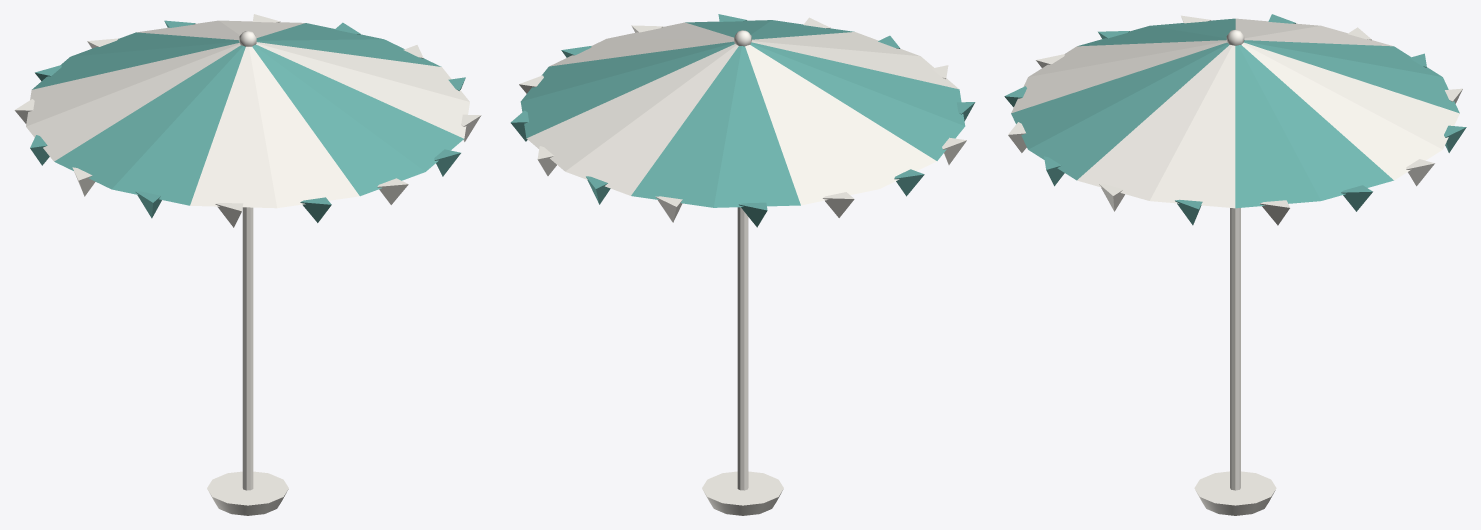
The model's file is b_parasol_teal.gltf.
3 views of the same model, side by side, from view 1: azimuth 30°, elevation 25°; view 2: azimuth 150°, elevation 25°; view 3: azimuth 270°, elevation 25° (orthographic).
Visible parts, largest first — view 1: b_parasol_teal; view 2: b_parasol_teal; view 3: b_parasol_teal.
Part boxes in pixels (x1,y1,x2,y2): b_parasol_teal: [14, 14, 481, 515]; b_parasol_teal: [510, 14, 975, 515]; b_parasol_teal: [1004, 14, 1466, 515].
Bounding box in the file's own units: 2.47 × 2.78 × 2.47.
Materials: 1 (1 with a texture image).
